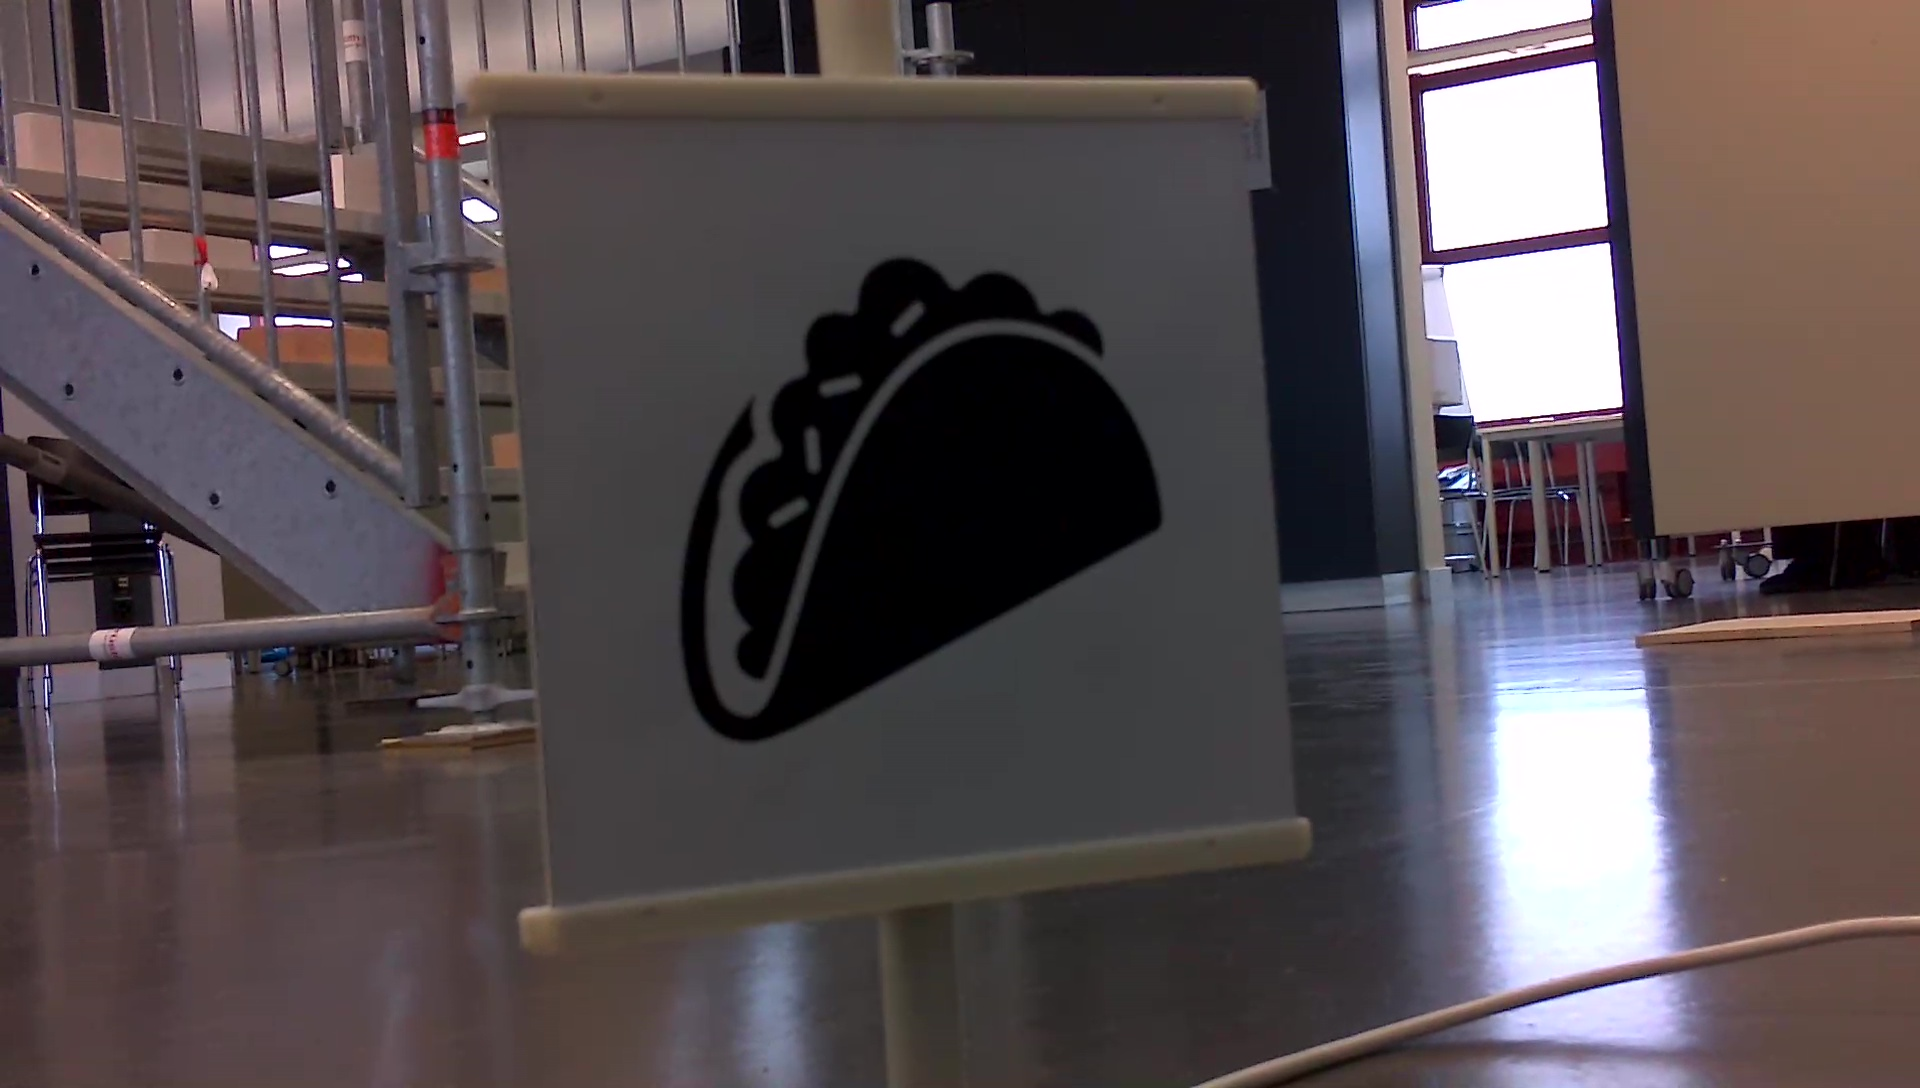taco: (658, 235, 1185, 756)
